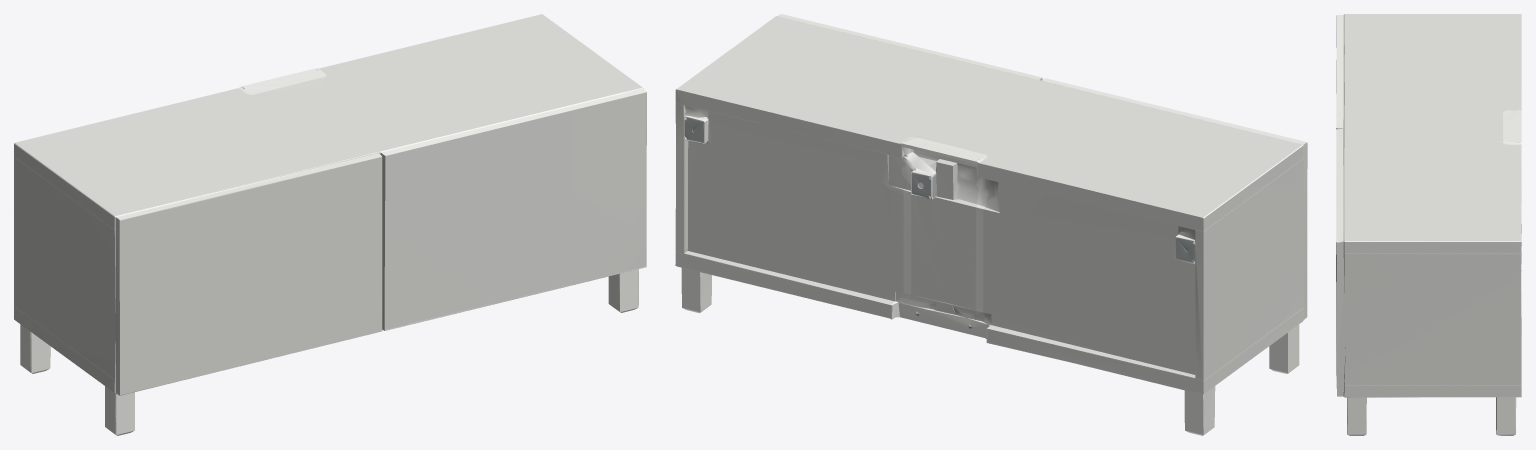
The model's file is besta_tv_bench_with_doors_white_lappvike.glb.
The picture shows the model from 3 angles, left to right: view 1: azimuth 30°, elevation 25°; view 2: azimuth 150°, elevation 25°; view 3: azimuth 270°, elevation 25°; orthographic projection. The views are drawn at different scales.
Parts seen in each view (by area): view 1: ProcessedMeshNode; view 2: ProcessedMeshNode; view 3: ProcessedMeshNode.
Boxes of the visible parts, x1,y1,x2,y2 form: ProcessedMeshNode: (14,14,646,435); ProcessedMeshNode: (675,14,1307,435); ProcessedMeshNode: (1336,14,1521,435).
Bounding box in the file's own units: 1.2 × 0.4864 × 0.4137.
Materials: 1 (1 with a texture image).
